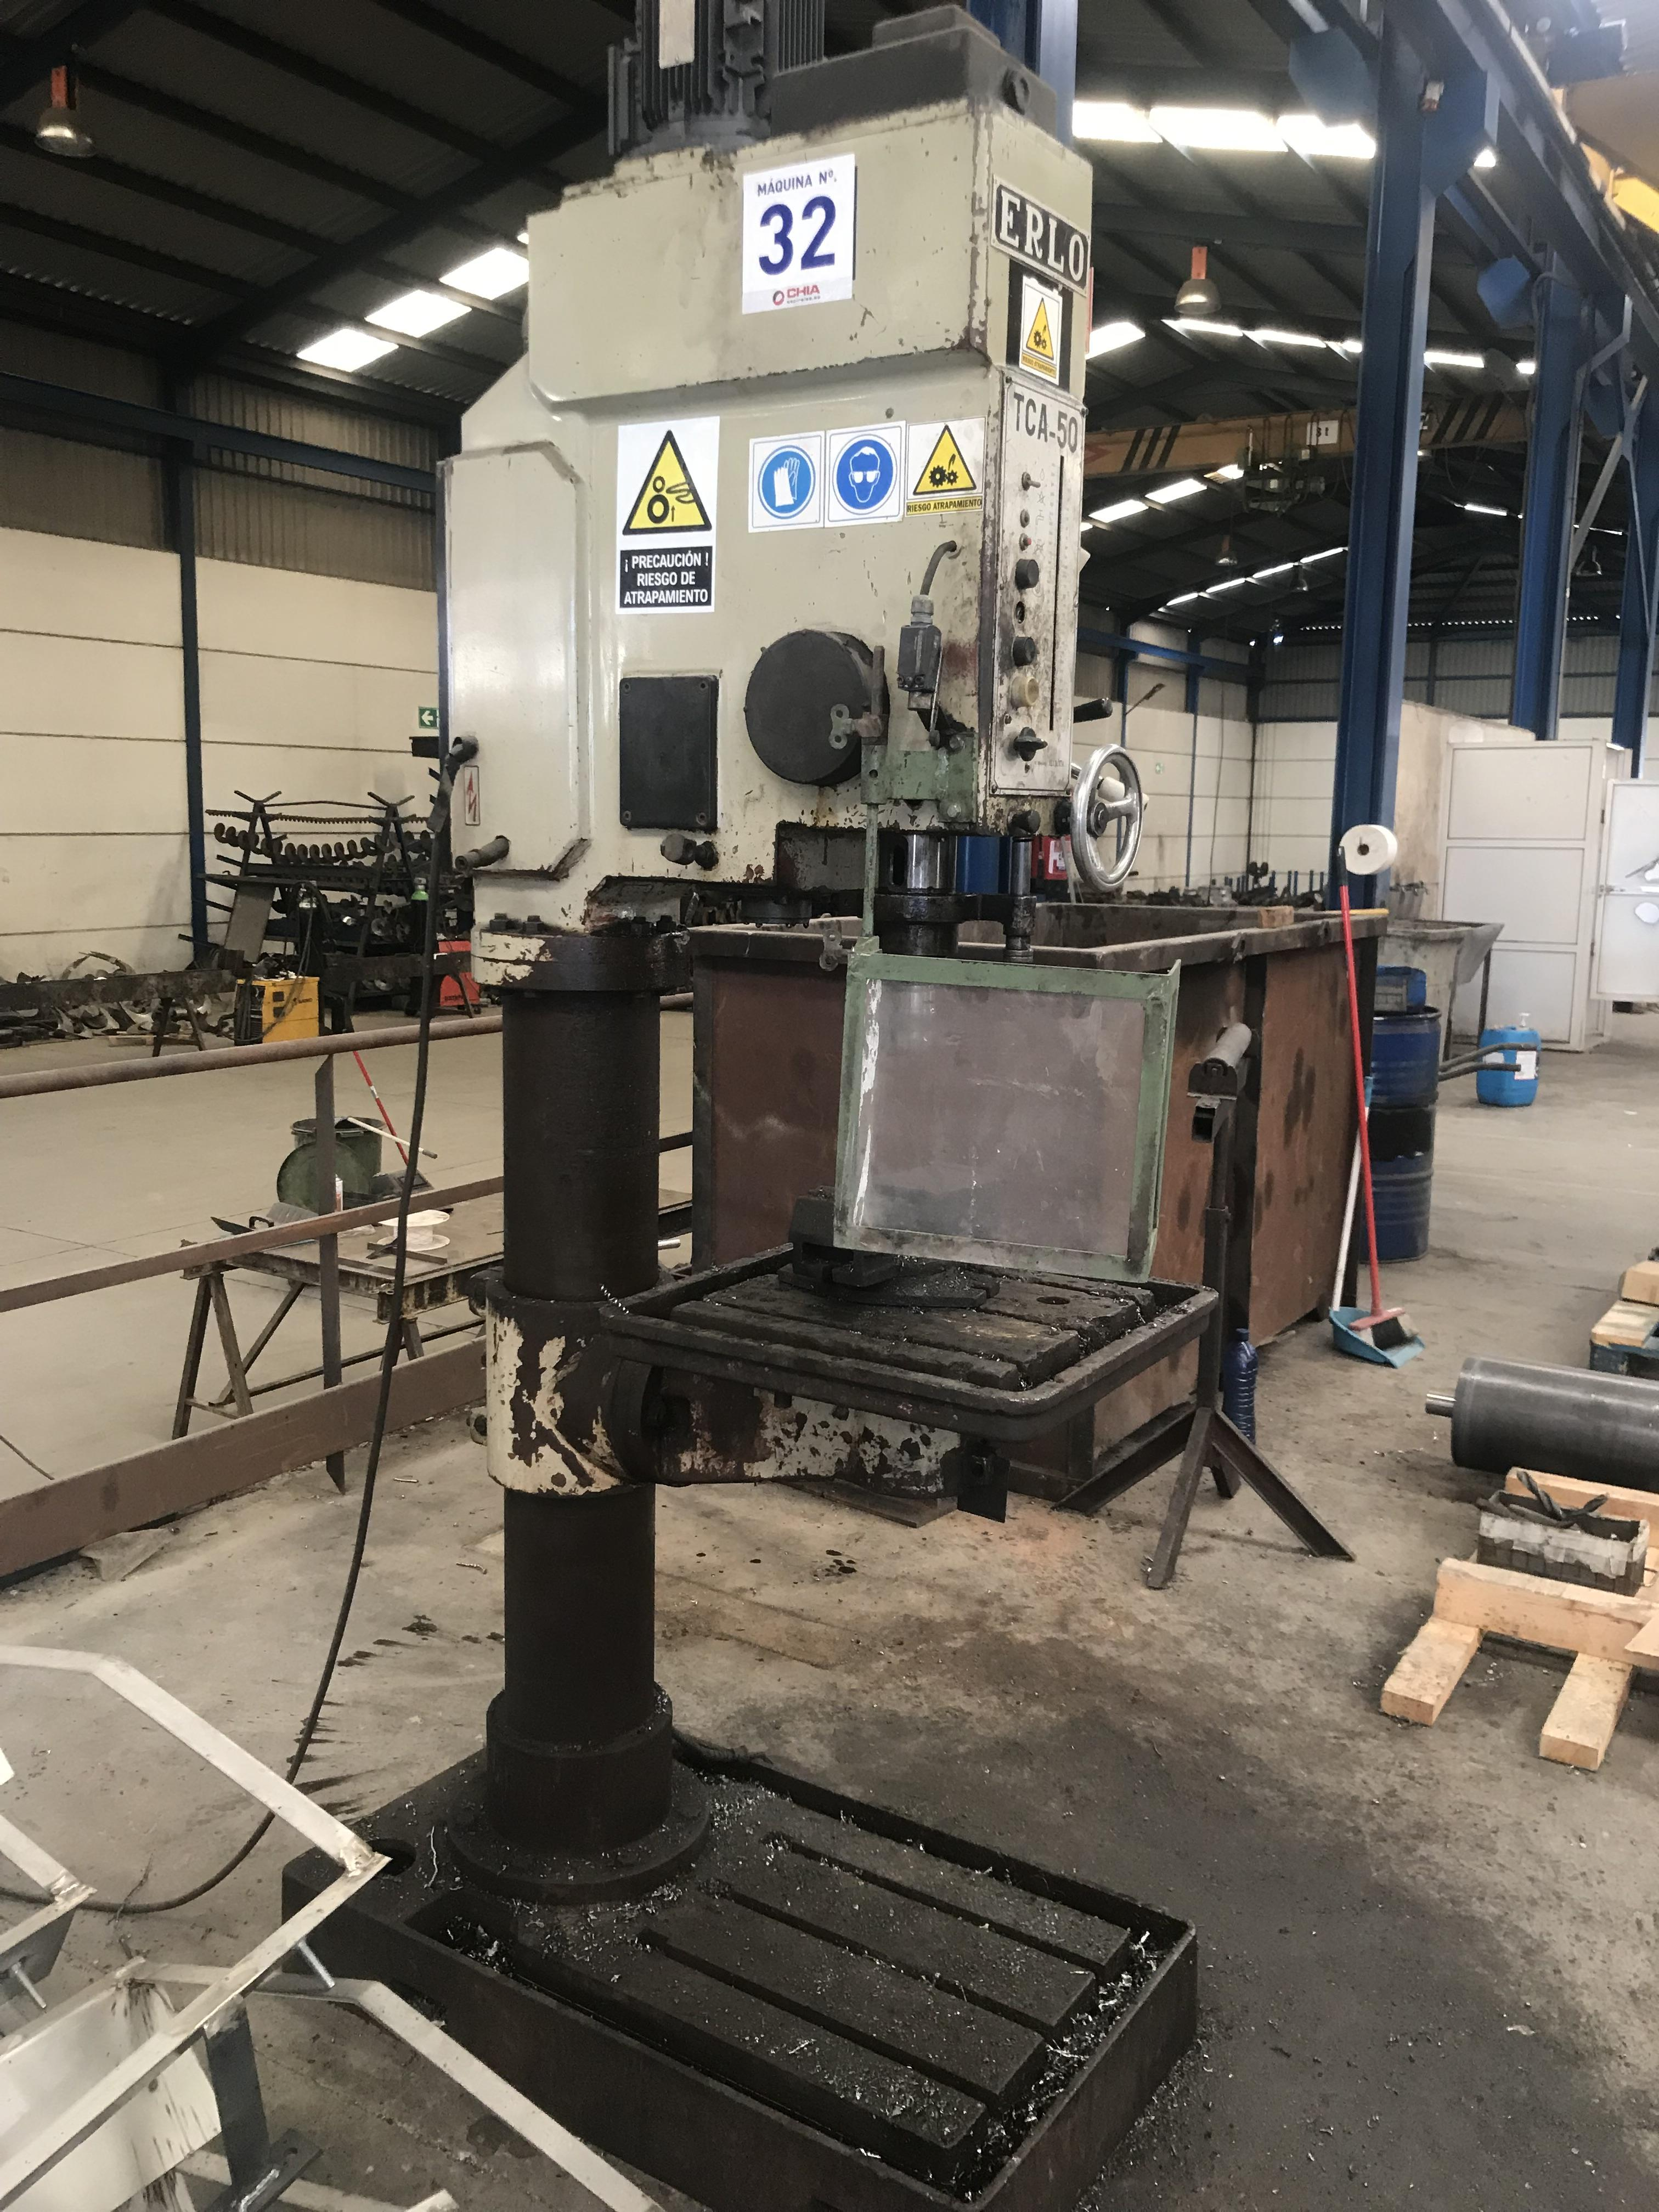falta_resguardo: (871, 794, 960, 1017)
mandos_inseguros: (988, 355, 1094, 799)
sin_indicador_emergencia: (913, 359, 969, 415)
